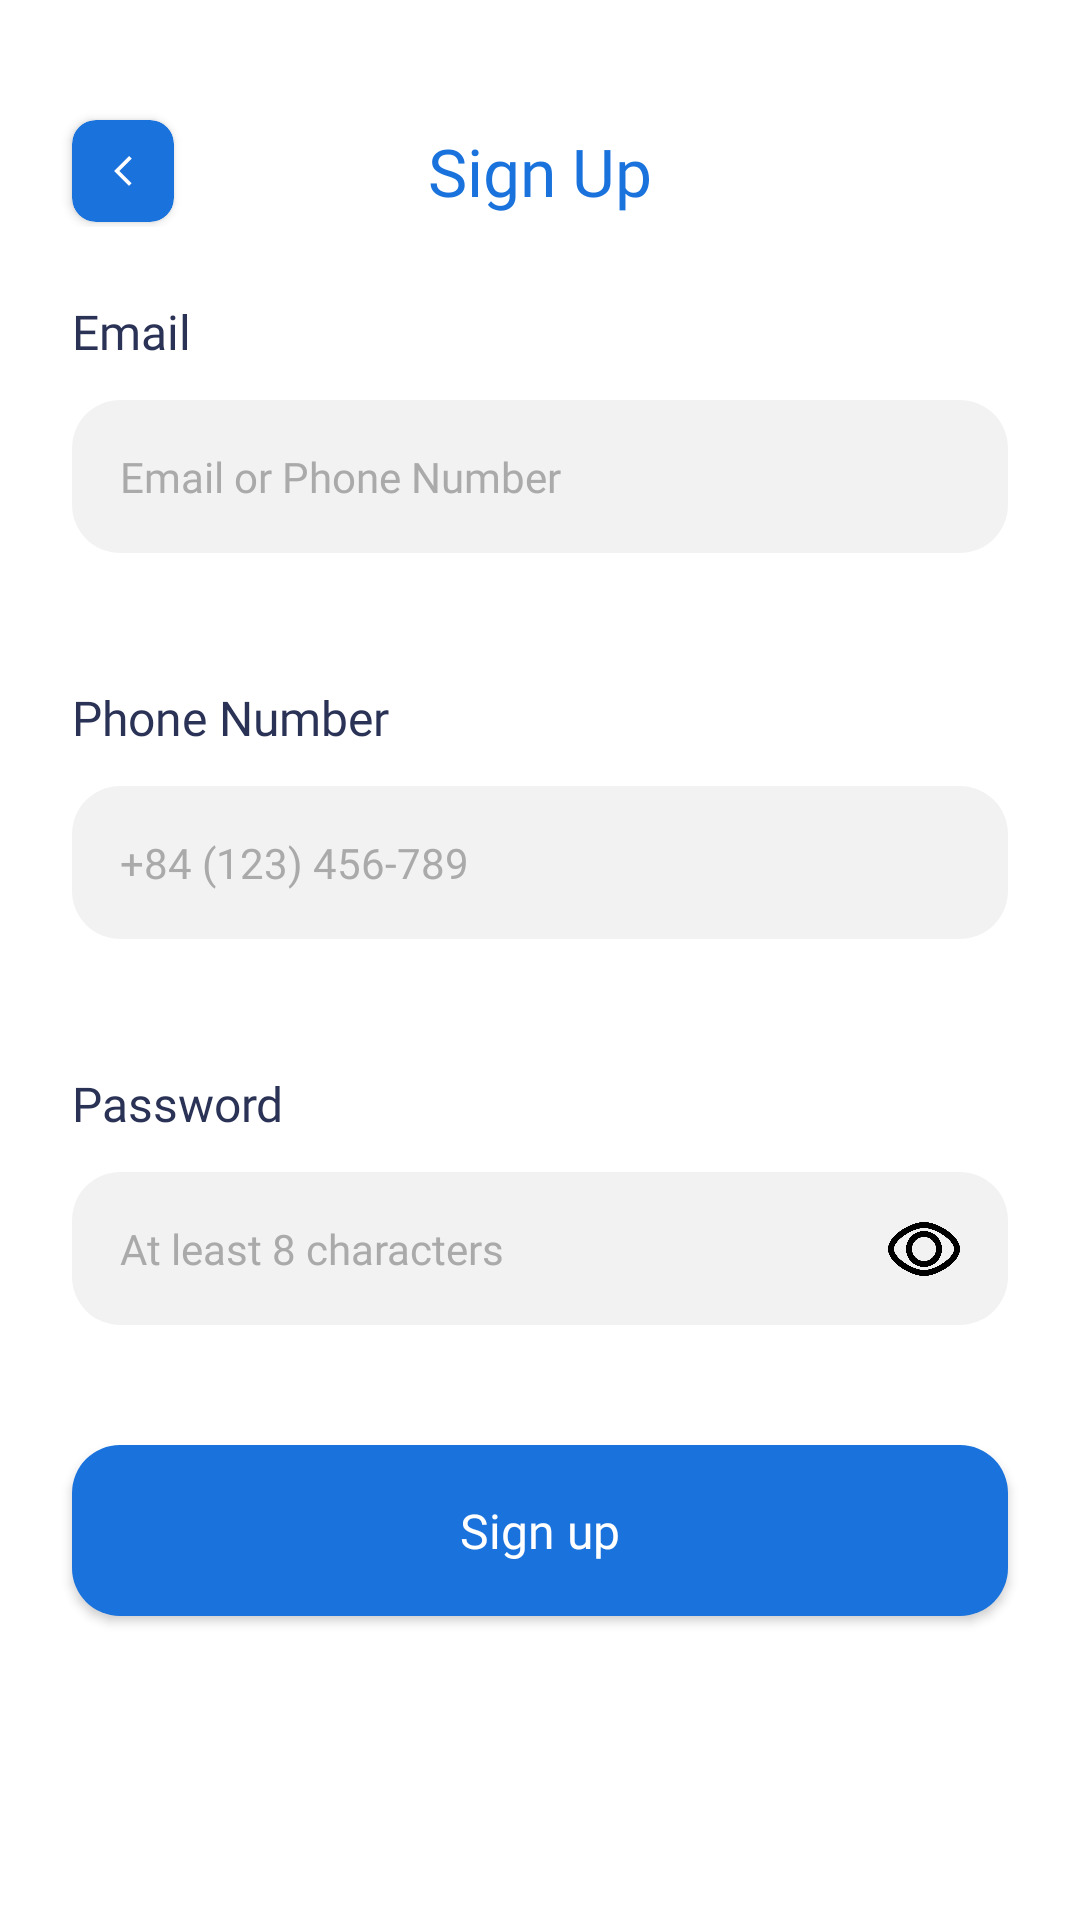

Where to tap for icons on this 1080px x 1920px app screen, as [x,y]:
arrow back: [123,171]
visibility on: [924,1249]
